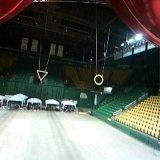Yellow_Circle_GShape: (93, 72, 103, 85)
Yellow_Triangle_Gshape: (35, 70, 48, 83)
